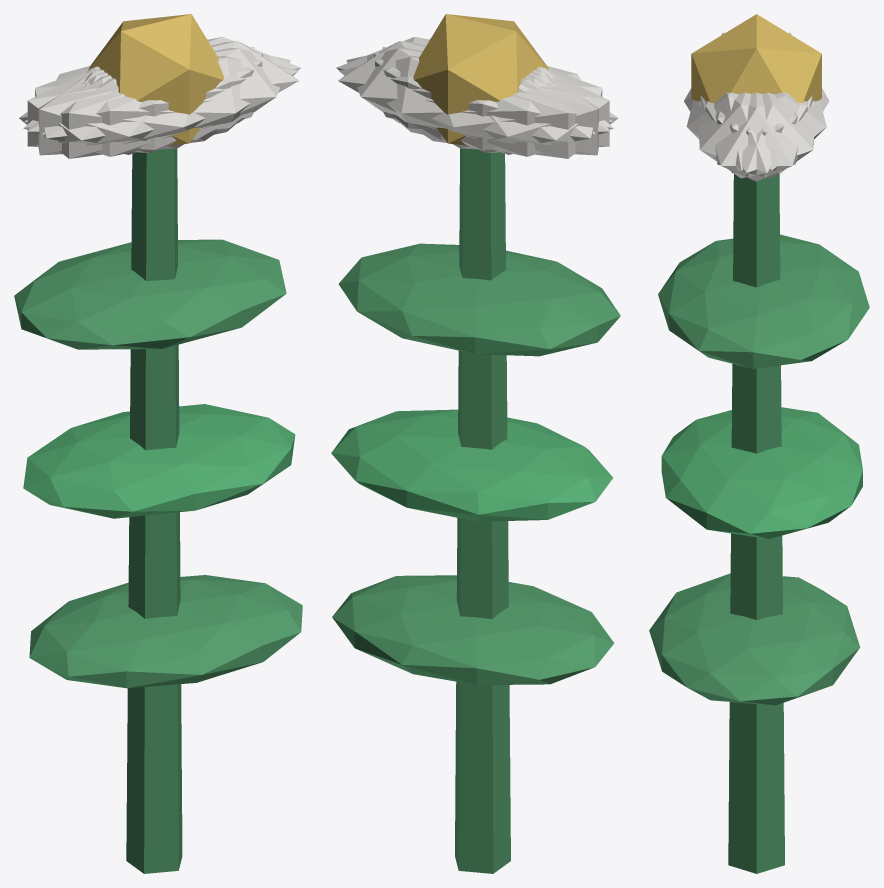
Rendered from ficus-nervosa.glb.
3 views of the same model, side by side, from view 1: azimuth 30°, elevation 25°; view 2: azimuth 150°, elevation 25°; view 3: azimuth 270°, elevation 25° (orthographic).
Parts seen in each view (by area): view 1: stem, leaf0, leaf2, leaf1, center, petal1, petal6, petal2, petal5, petal7, petal0, petal4 (+2 smaller); view 2: stem, leaf2, leaf1, leaf0, center, petal8, petal3, petal7, petal4, petal2, petal0, petal5 (+2 smaller); view 3: stem, leaf2, leaf0, leaf1, center, petal0, petal4, petal5, petal1, petal8.
Boxes of the visible parts, x1,y1,x2,y2 form: stem: (126, 148, 182, 873); leaf0: (29, 575, 302, 688); leaf2: (14, 239, 286, 349); leaf1: (23, 404, 295, 518); center: (88, 14, 223, 145); petal1: (23, 56, 298, 156); petal6: (19, 68, 218, 158); petal2: (38, 47, 254, 155); petal5: (42, 48, 290, 149); petal7: (27, 53, 262, 152); petal0: (88, 41, 298, 140); petal4: (24, 37, 300, 131); stem: (455, 148, 510, 873); leaf2: (338, 243, 620, 356); leaf1: (331, 409, 612, 521); leaf0: (332, 575, 614, 685); center: (413, 14, 548, 145); petal8: (339, 56, 613, 156); petal3: (419, 68, 618, 158); petal7: (382, 47, 598, 155); petal4: (346, 48, 595, 149); petal2: (374, 53, 609, 152); petal0: (338, 41, 548, 140); petal5: (336, 37, 612, 131); stem: (728, 173, 784, 873); leaf2: (658, 234, 869, 368); leaf0: (649, 573, 860, 705); leaf1: (661, 407, 862, 538); center: (691, 14, 821, 103); petal0: (700, 92, 812, 181); petal4: (705, 92, 814, 178); petal5: (699, 92, 807, 178); petal1: (686, 92, 797, 170); petal8: (715, 92, 826, 170).
Bounding box in the file's own units: 0.1452 × 0.43 × 0.1036.
